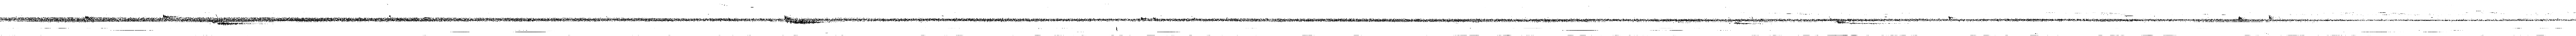meteor: (784, 16, 821, 23), (217, 21, 248, 26)
